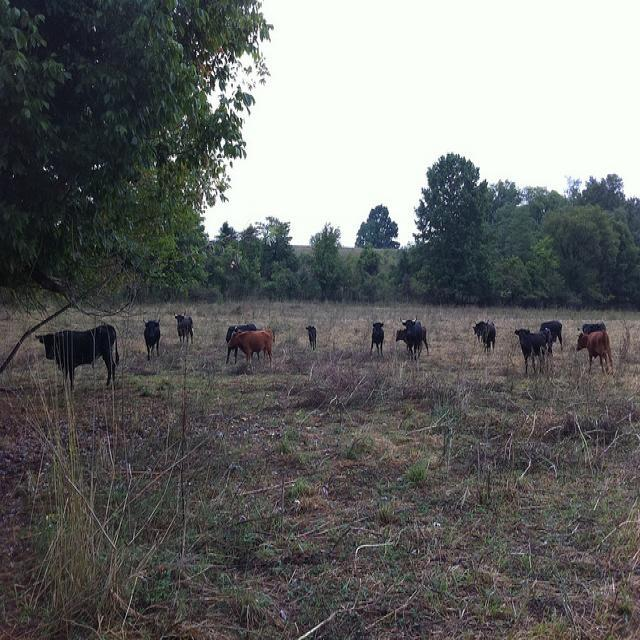cow: (223, 312, 554, 363), (33, 323, 121, 392), (226, 327, 272, 367), (574, 327, 611, 372), (513, 328, 546, 375), (394, 325, 428, 352), (172, 308, 192, 345), (142, 316, 159, 359), (538, 320, 561, 345), (371, 320, 384, 355), (471, 317, 488, 340), (580, 320, 605, 333), (481, 323, 493, 348), (304, 323, 315, 348)
